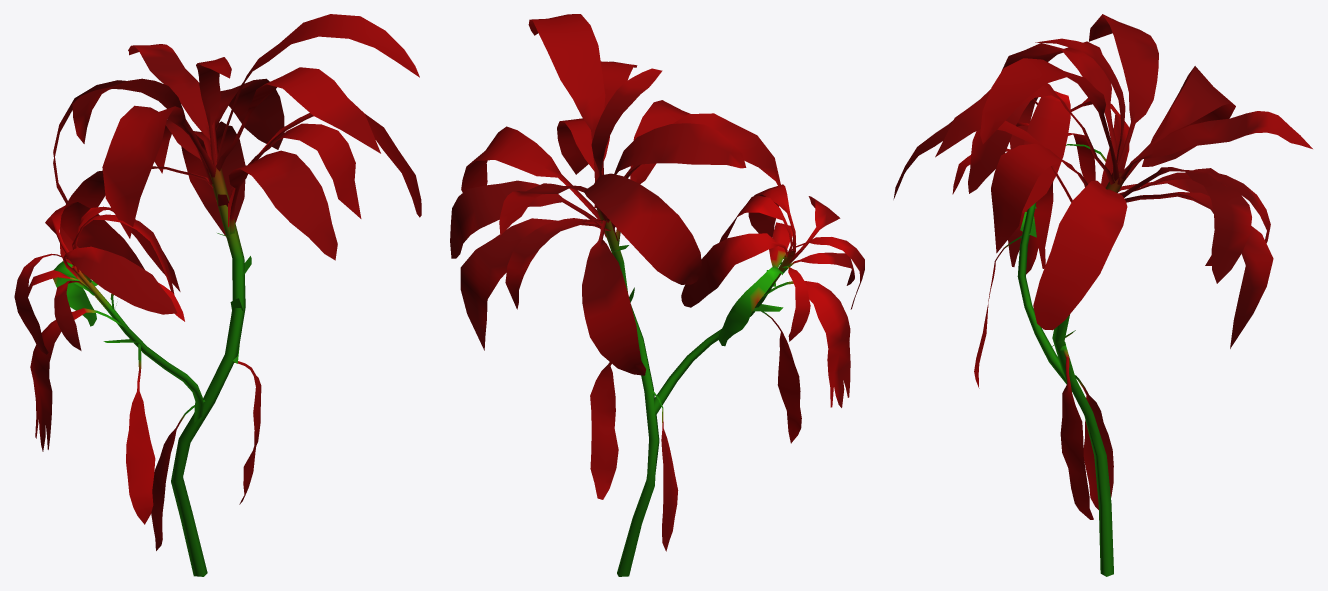
File: Var5_LOD0.fbx
3 views of the same model, side by side, from view 1: azimuth 30°, elevation 25°; view 2: azimuth 150°, elevation 25°; view 3: azimuth 270°, elevation 25° (orthographic). The views are drawn at different scales.
Visible parts, largest first — view 1: _59ef_Var5_LOD0; view 2: _59ef_Var5_LOD0; view 3: _59ef_Var5_LOD0.
Part boxes in pixels (x1,y1,x2,y2): _59ef_Var5_LOD0: (14,14,421,576); _59ef_Var5_LOD0: (450,14,864,576); _59ef_Var5_LOD0: (893,14,1312,576).
Bounding box in the file's own units: 47.37 × 60.28 × 41.48.
